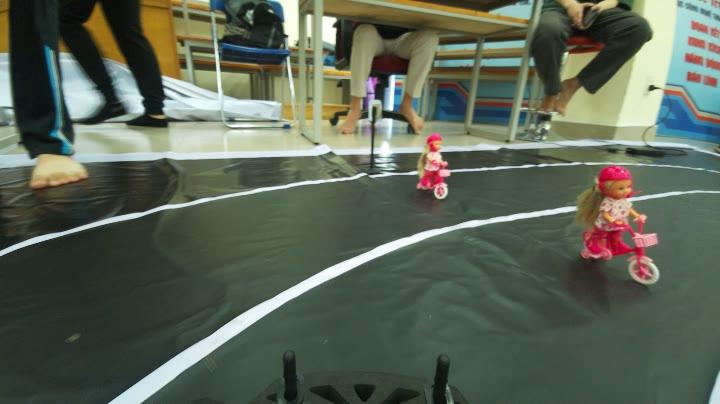pedestrian: (576, 166, 666, 302), (418, 138, 457, 201)
